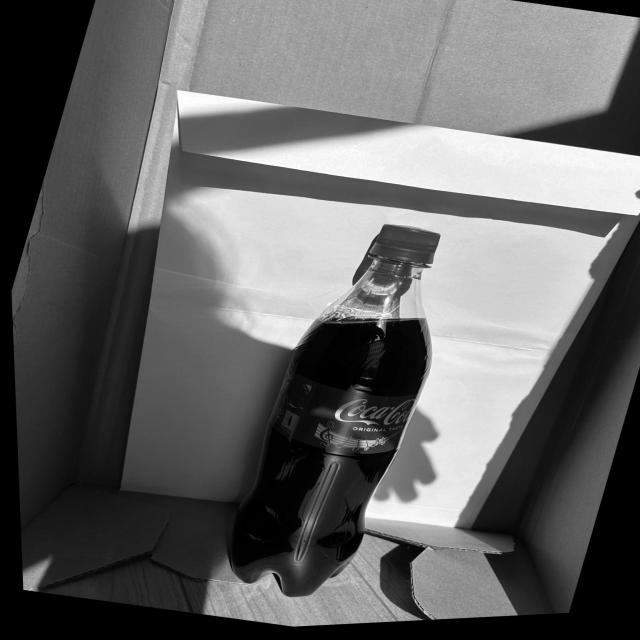high: (231, 224, 440, 596)
